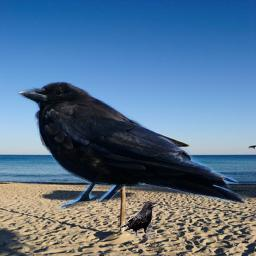Crow: (14, 80, 248, 210), (119, 201, 159, 239)
